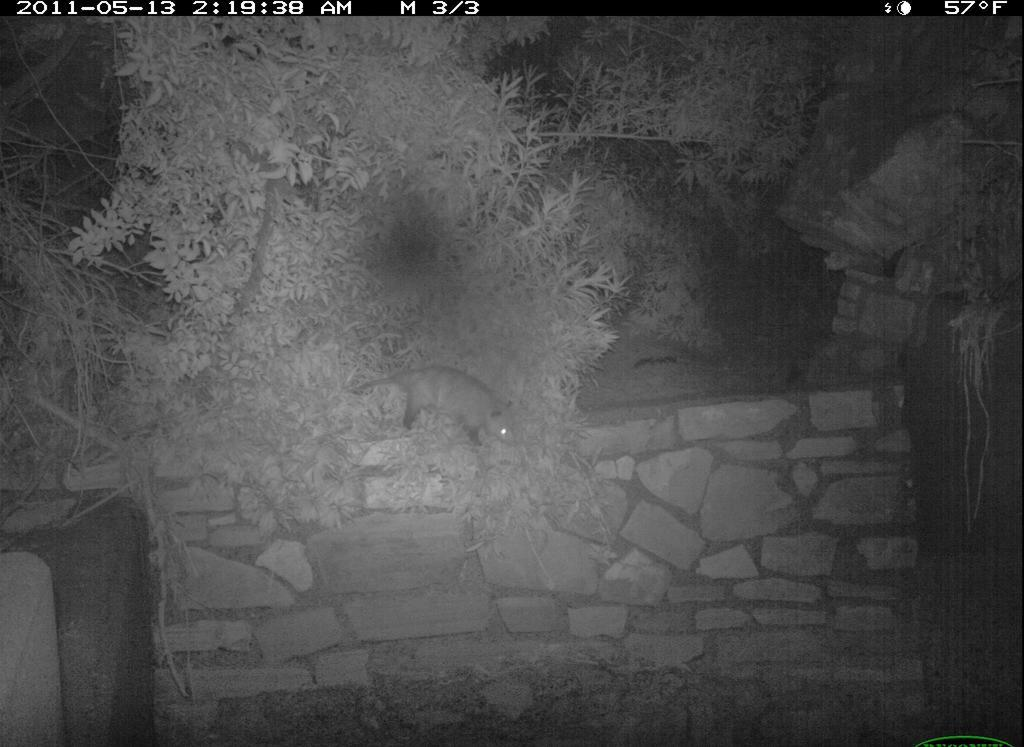opossum: (344, 351, 542, 469)
